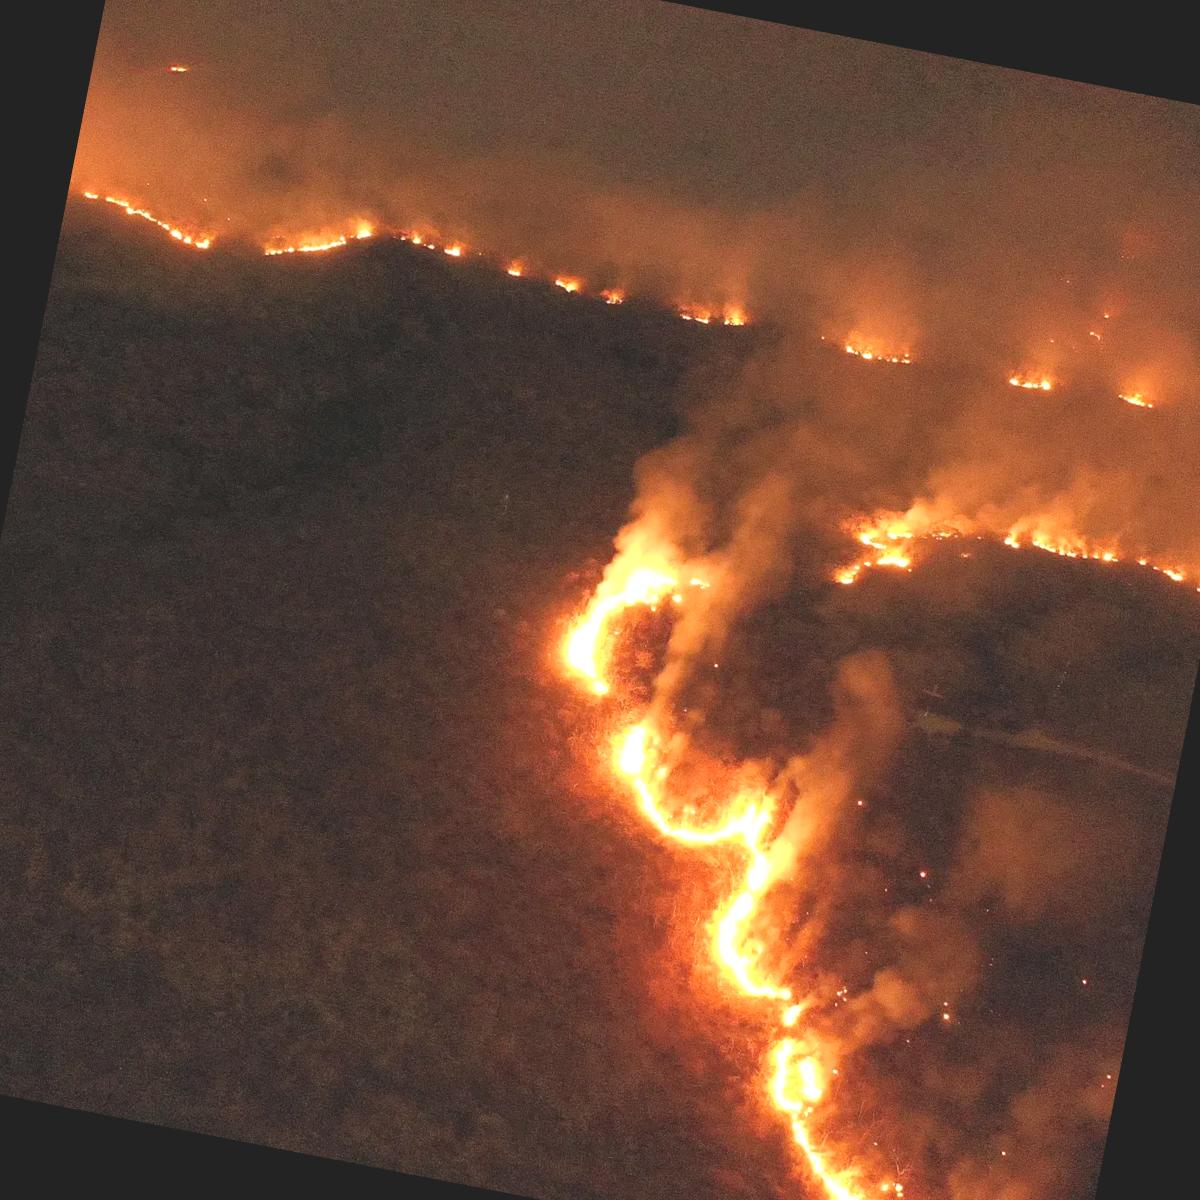fire: (847, 466, 1200, 595), (674, 785, 838, 999), (588, 702, 712, 854), (762, 1125, 971, 1200), (73, 173, 226, 258), (552, 557, 641, 700), (741, 1014, 853, 1123), (831, 538, 920, 609), (273, 208, 375, 268)
